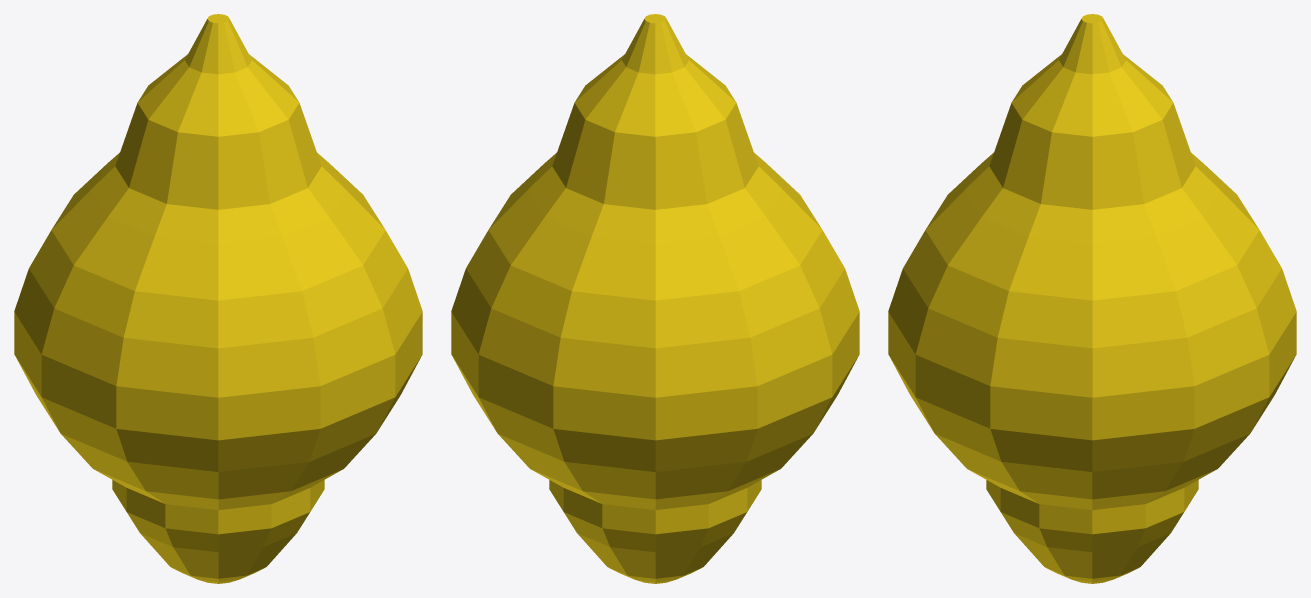
File: Kwaki_Handing.fbx
3 views of the same model, side by side, from view 1: azimuth 30°, elevation 25°; view 2: azimuth 150°, elevation 25°; view 3: azimuth 270°, elevation 25° (orthographic).
Visible parts, largest first — view 1: Cylinder.001; view 2: Cylinder.001; view 3: Cylinder.001.
Boxes of the visible parts, x1,y1,x2,y2 form: Cylinder.001: [14, 14, 422, 583]; Cylinder.001: [451, 14, 859, 583]; Cylinder.001: [888, 14, 1296, 583].
Size of the model in its own units: 442 by 664 by 442.
